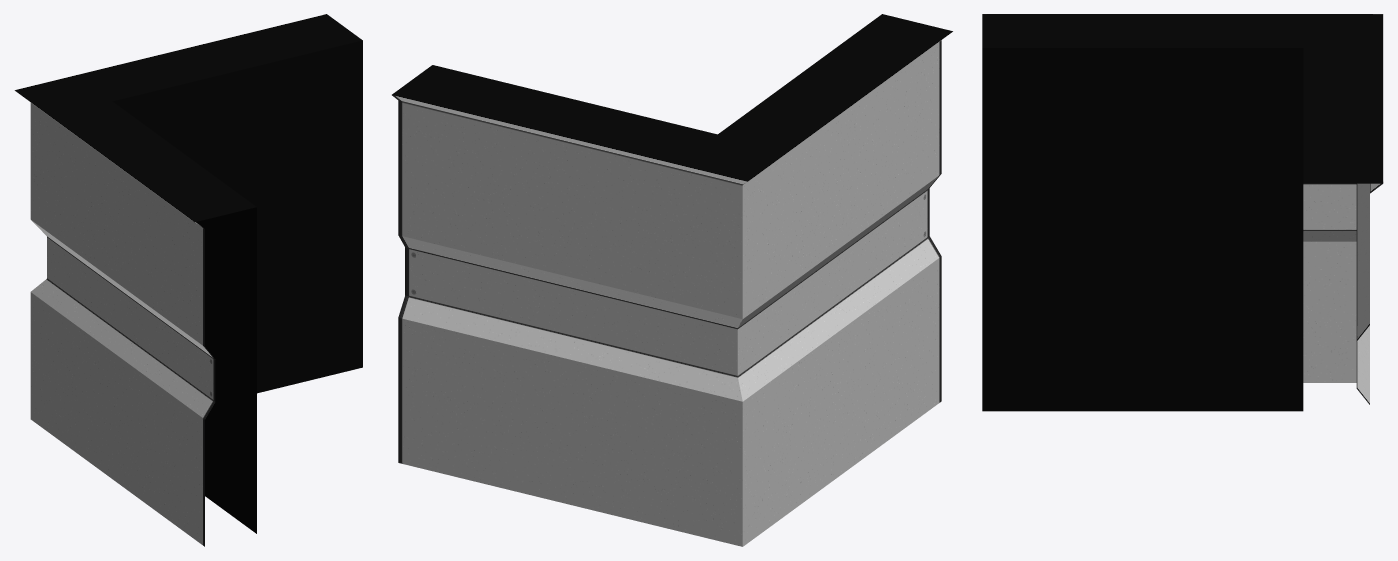
File: corner-2.fbx
The picture shows the model from 3 angles, left to right: view 1: azimuth 30°, elevation 25°; view 2: azimuth 150°, elevation 25°; view 3: azimuth 270°, elevation 25°; orthographic projection. The views are drawn at different scales.
Visible parts, largest first — view 1: pCube42; view 2: pCube42; view 3: pCube42.
Boxes of the visible parts, x1=… form: pCube42: x1=14, y1=14, x2=362, y2=546; pCube42: x1=392, y1=14, x2=952, y2=546; pCube42: x1=982, y1=14, x2=1383, y2=411.
Bounding box in the file's own units: 3 × 3 × 3.
Materials: 1 (1 with a texture image).
